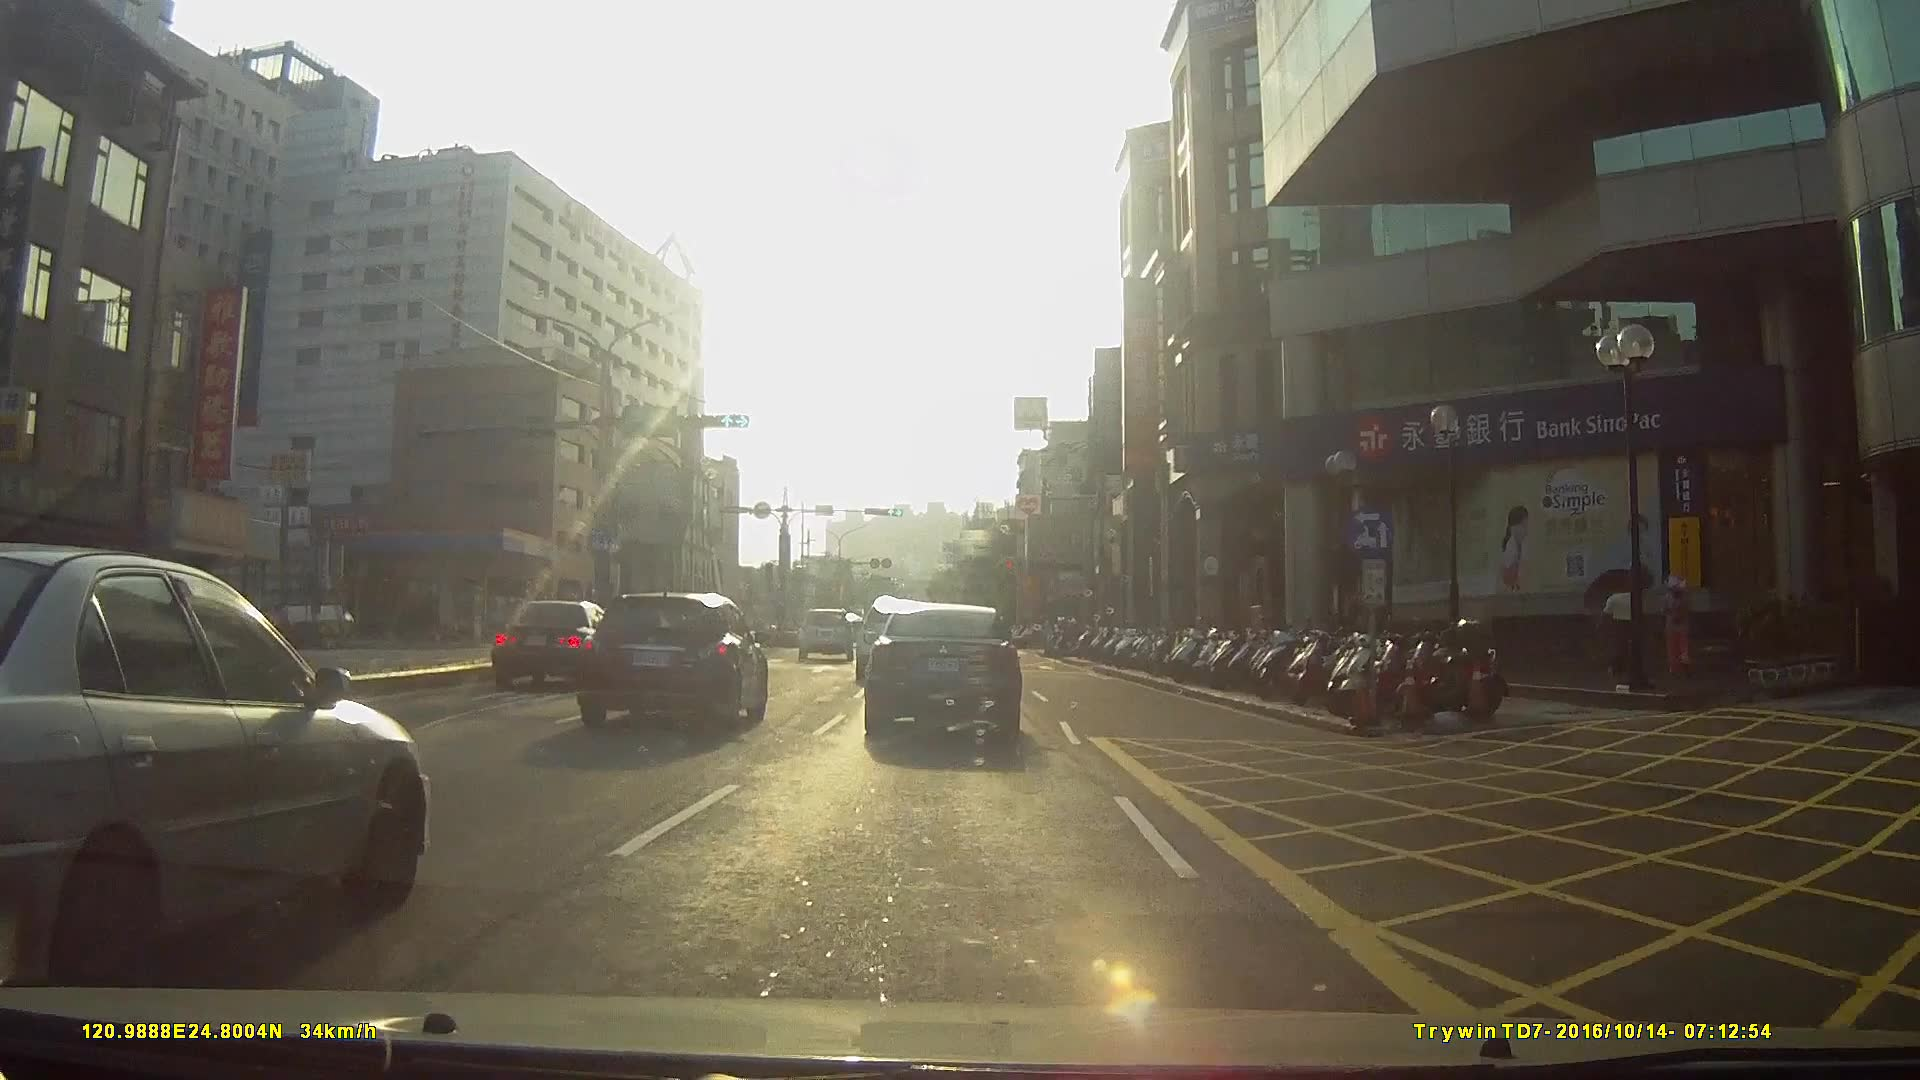pedestrian: (1659, 567, 1707, 703), (1600, 573, 1647, 690)
vehicle: (0, 543, 418, 1015), (567, 589, 762, 732), (862, 605, 1021, 748), (492, 600, 636, 693), (799, 608, 857, 665)
